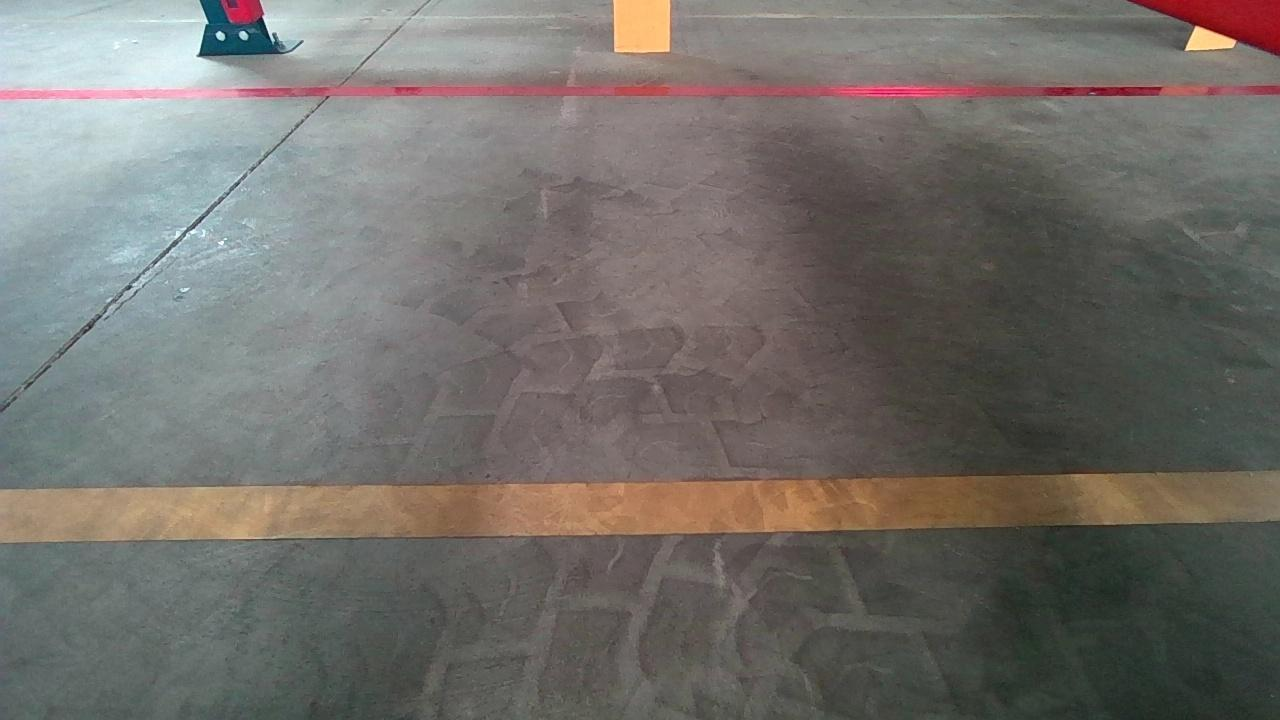red_line: (3, 82, 1274, 109)
yellow_line: (3, 470, 1280, 544)
